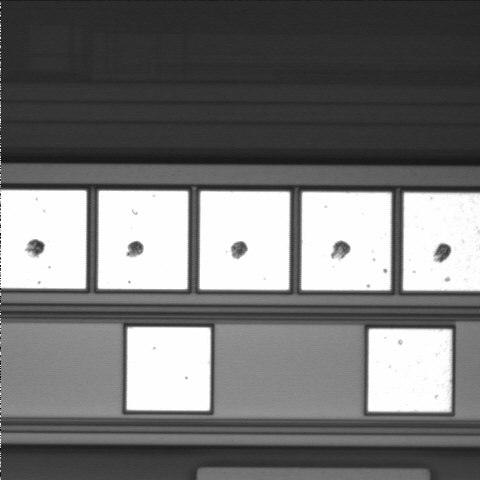pad: (200, 191, 290, 290), (98, 191, 188, 289), (301, 192, 391, 290), (127, 327, 211, 411), (368, 329, 452, 412)
